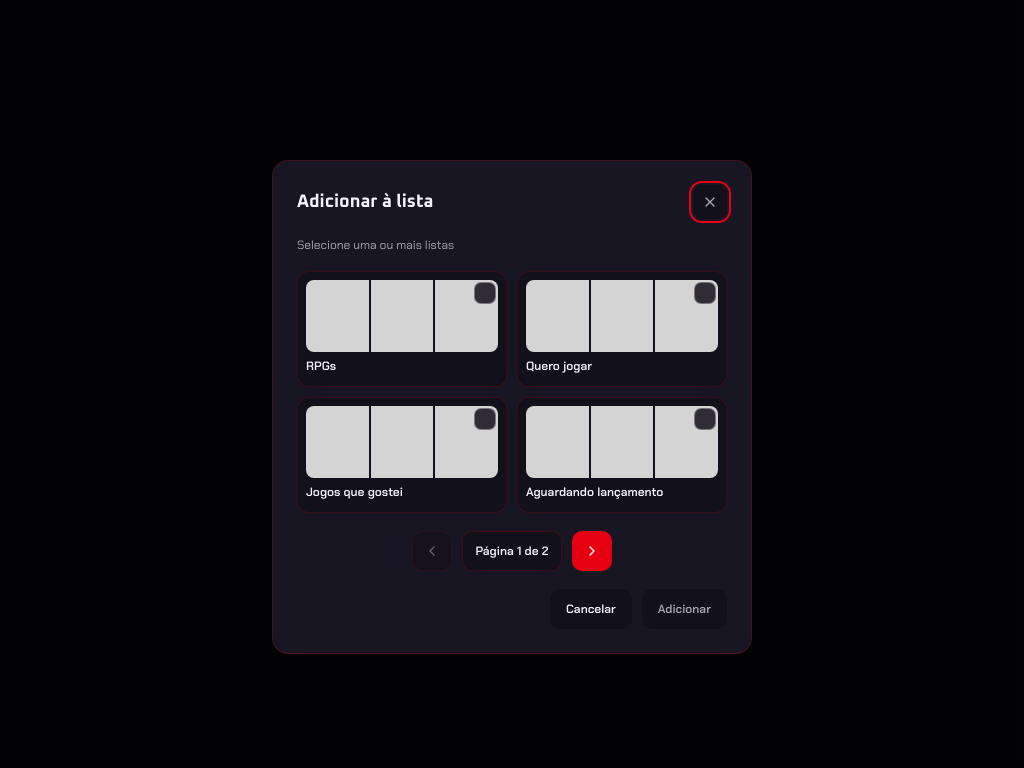
Test case: AddToListsModal › keeps the modal open and preserves selection when persistence fails
Click the button "RPGs" at (402, 329), box [297,271,507,387]
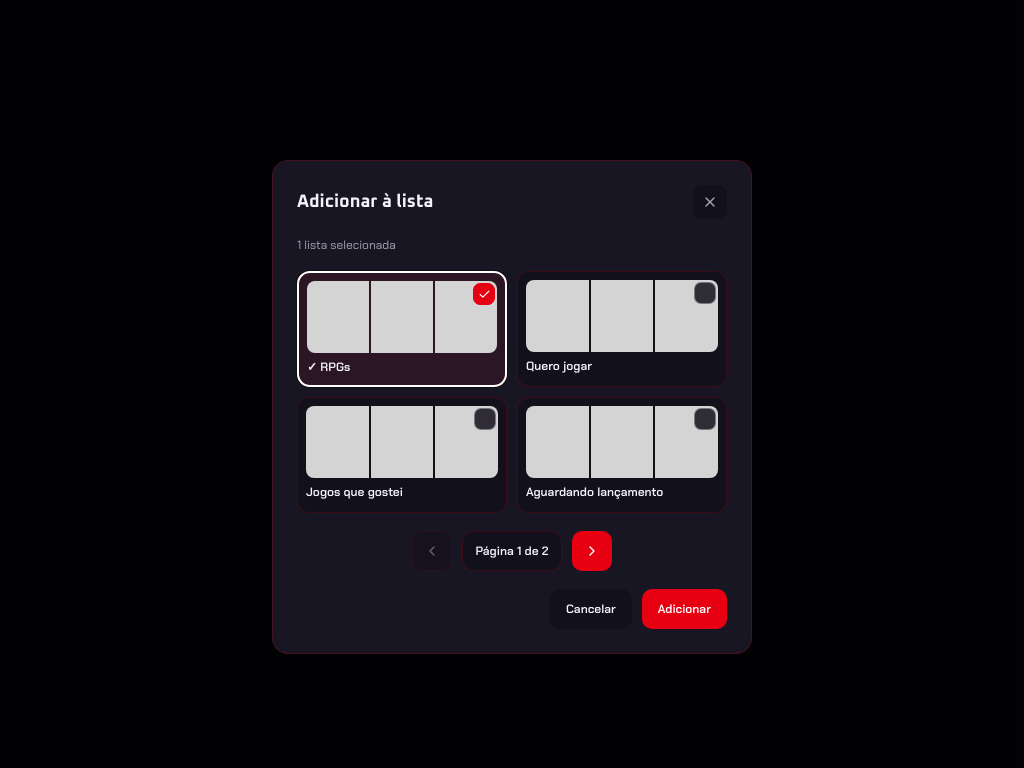
Click the button "Adicionar" at (684, 609), box [642,589,727,629]
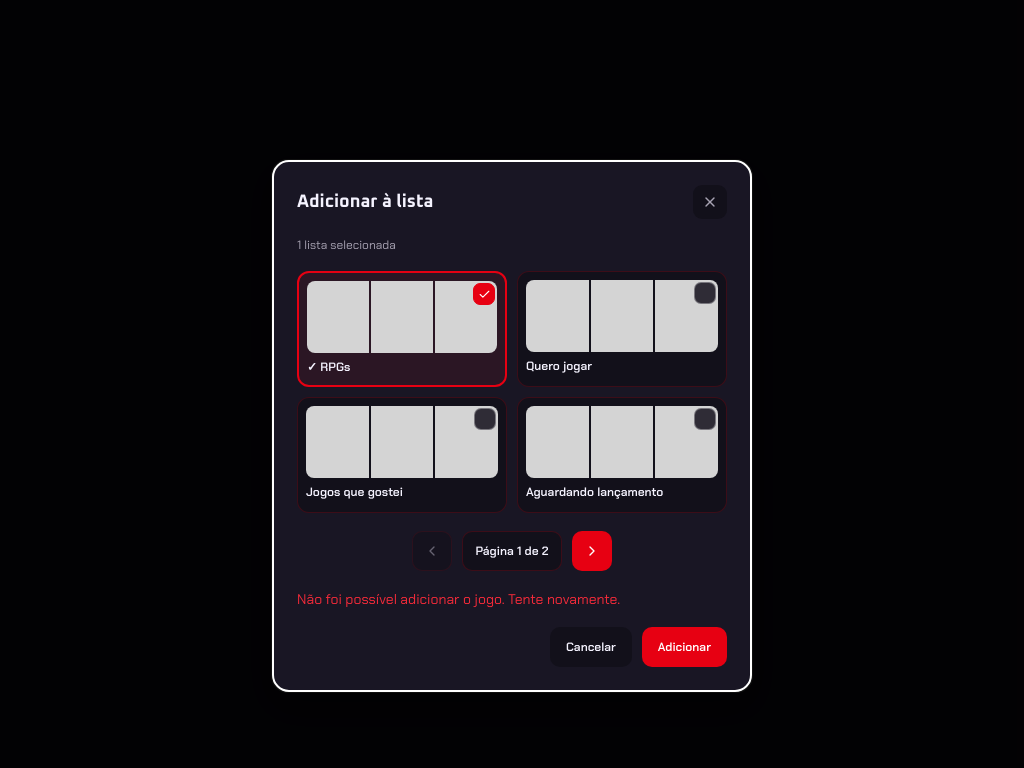
Check: the message does not show "raw provider detail", box [297,590,620,608]
Check: the message reads "Não foi possível adicionar o jogo. Tente novamente.", box [297,590,620,608]
